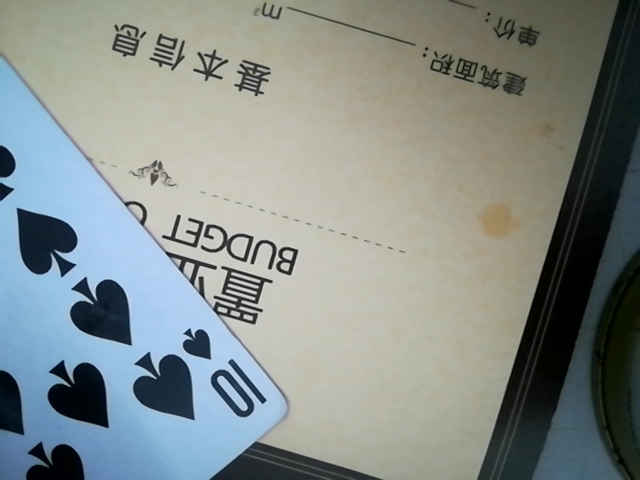ht 10: (1, 39, 310, 472)
